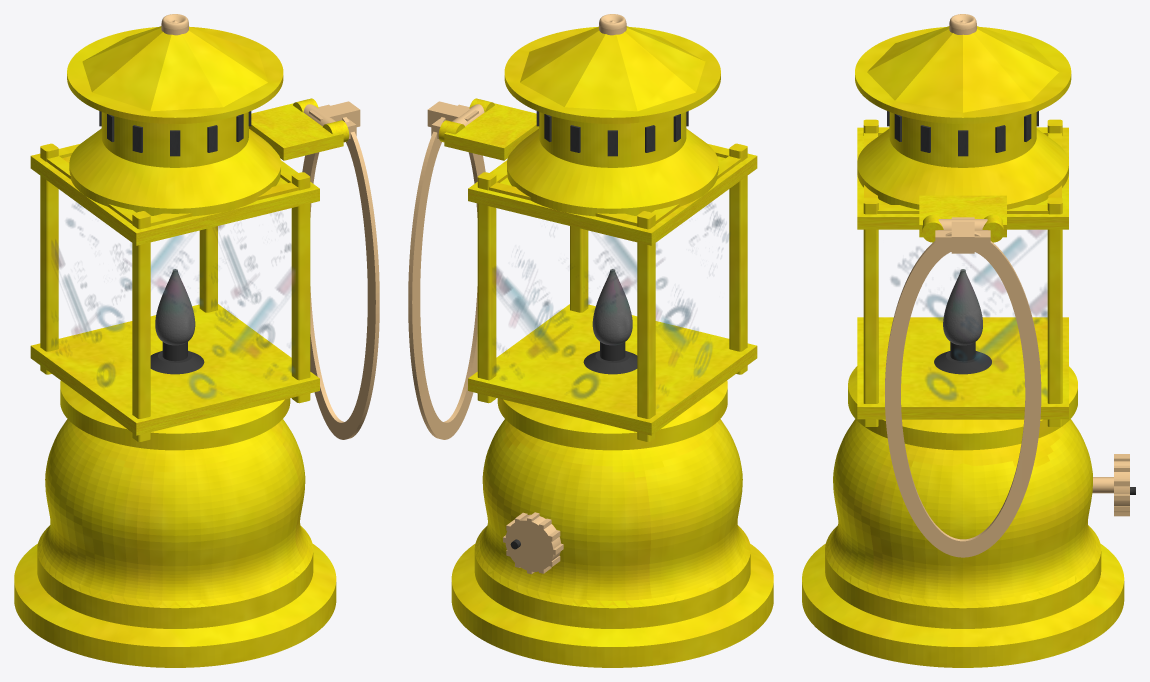
Rendered from Light_Latern__1752.glb.
3 views of the same model, side by side, from view 1: azimuth 30°, elevation 25°; view 2: azimuth 150°, elevation 25°; view 3: azimuth 270°, elevation 25° (orthographic).
Visible parts, largest first — view 1: lantern_body::green_body_shell, lantern_body::chamber_floor, lantern_body::tent_roof_cap, side_strap_handle::strap_loop, lantern_body::chamber_ceiling, lantern_body::corner_post_1, lantern_body::corner_post_0, lantern_body::corner_post_3, lantern_body::strap_hinge_saddle, lantern_body::flame, lantern_body::glass_pane_0, lantern_body::corner_post_2 (+6 smaller); view 2: lantern_body::green_body_shell, lantern_body::chamber_floor, lantern_body::tent_roof_cap, side_strap_handle::strap_loop, lantern_body::chamber_ceiling, lantern_body::corner_post_2, lantern_body::corner_post_3, lantern_body::corner_post_0, lantern_body::strap_hinge_saddle, wick_knob::knob_knurled_disk, lantern_body::flame, lantern_body::glass_pane_1 (+8 smaller); view 3: lantern_body::green_body_shell, lantern_body::chamber_floor, side_strap_handle::strap_loop, lantern_body::tent_roof_cap, lantern_body::corner_post_1, lantern_body::corner_post_2, lantern_body::chamber_ceiling, lantern_body::strap_hinge_saddle, lantern_body::flame, lantern_body::glass_pane_3, side_strap_handle::strap_tab, wick_knob::knob_knurled_disk (+4 smaller).
Part boxes in pixels (left/top/right/bottom): lantern_body::green_body_shell: left=14, top=27, right=336, bottom=667; lantern_body::chamber_floor: left=30, top=304, right=319, bottom=435; lantern_body::tent_roof_cap: left=82, top=26, right=267, bottom=111; side_strap_handle::strap_loop: left=302, top=117, right=379, bottom=439; lantern_body::chamber_ceiling: left=30, top=143, right=319, bottom=245; lantern_body::corner_post_1: left=291, top=172, right=310, bottom=403; lantern_body::corner_post_0: left=132, top=211, right=150, bottom=441; lantern_body::corner_post_3: left=40, top=143, right=58, bottom=374; lantern_body::strap_hinge_saddle: left=249, top=103, right=343, bottom=160; lantern_body::flame: left=155, top=269, right=195, bottom=345; lantern_body::glass_pane_0: left=158, top=251, right=295, bottom=398; lantern_body::corner_post_2: left=199, top=226, right=217, bottom=312; lantern_body::green_body_shell: left=451, top=27, right=773, bottom=667; lantern_body::chamber_floor: left=468, top=304, right=757, bottom=435; lantern_body::tent_roof_cap: left=520, top=26, right=705, bottom=111; side_strap_handle::strap_loop: left=408, top=117, right=485, bottom=439; lantern_body::chamber_ceiling: left=468, top=143, right=757, bottom=245; lantern_body::corner_post_2: left=477, top=172, right=496, bottom=403; lantern_body::corner_post_3: left=637, top=211, right=655, bottom=441; lantern_body::corner_post_0: left=729, top=143, right=747, bottom=374; lantern_body::strap_hinge_saddle: left=444, top=103, right=538, bottom=160; wick_knob::knob_knurled_disk: left=503, top=512, right=563, bottom=574; lantern_body::flame: left=592, top=269, right=632, bottom=345; lantern_body::glass_pane_1: left=492, top=251, right=629, bottom=398; lantern_body::green_body_shell: left=802, top=27, right=1124, bottom=667; lantern_body::chamber_floor: left=857, top=317, right=1068, bottom=419; side_strap_handle::strap_loop: left=885, top=232, right=1041, bottom=557; lantern_body::tent_roof_cap: left=867, top=26, right=1058, bottom=112; lantern_body::corner_post_1: left=863, top=197, right=878, bottom=426; lantern_body::corner_post_2: left=1047, top=197, right=1062, bottom=426; lantern_body::chamber_ceiling: left=857, top=127, right=1068, bottom=229; lantern_body::strap_hinge_saddle: left=919, top=195, right=1006, bottom=237; lantern_body::flame: left=943, top=269, right=982, bottom=345; lantern_body::glass_pane_3: left=891, top=247, right=1047, bottom=400; side_strap_handle::strap_tab: left=935, top=217, right=990, bottom=253; wick_knob::knob_knurled_disk: left=1092, top=454, right=1129, bottom=516.
Bounding box in the file's own units: 0.16 × 0.2785 × 0.1451.
Materials: 6 (6 with a texture image).
